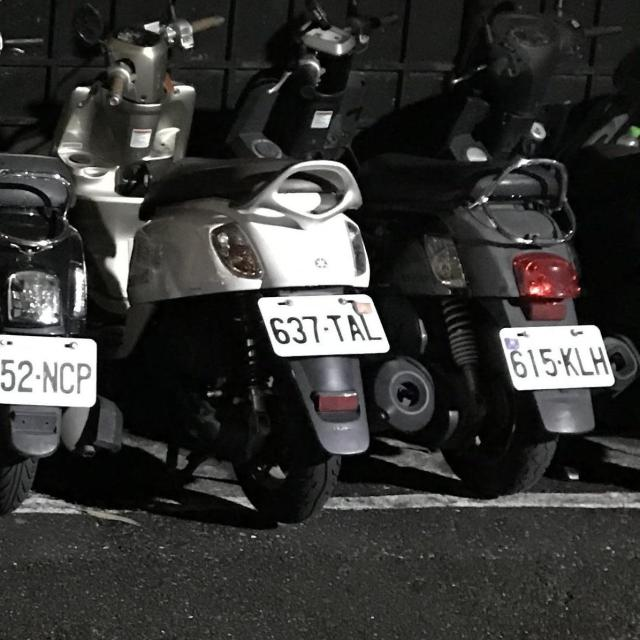W: (254, 282, 393, 364), (494, 319, 615, 395), (0, 327, 104, 411)
